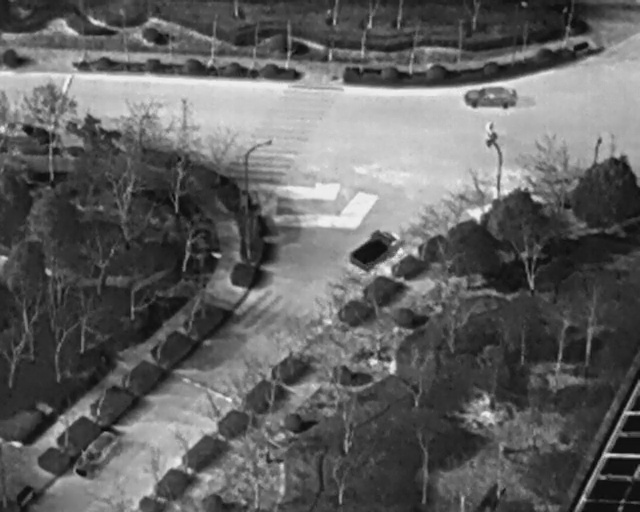Car: (342, 219, 406, 280), (70, 425, 124, 487), (463, 86, 517, 110)
